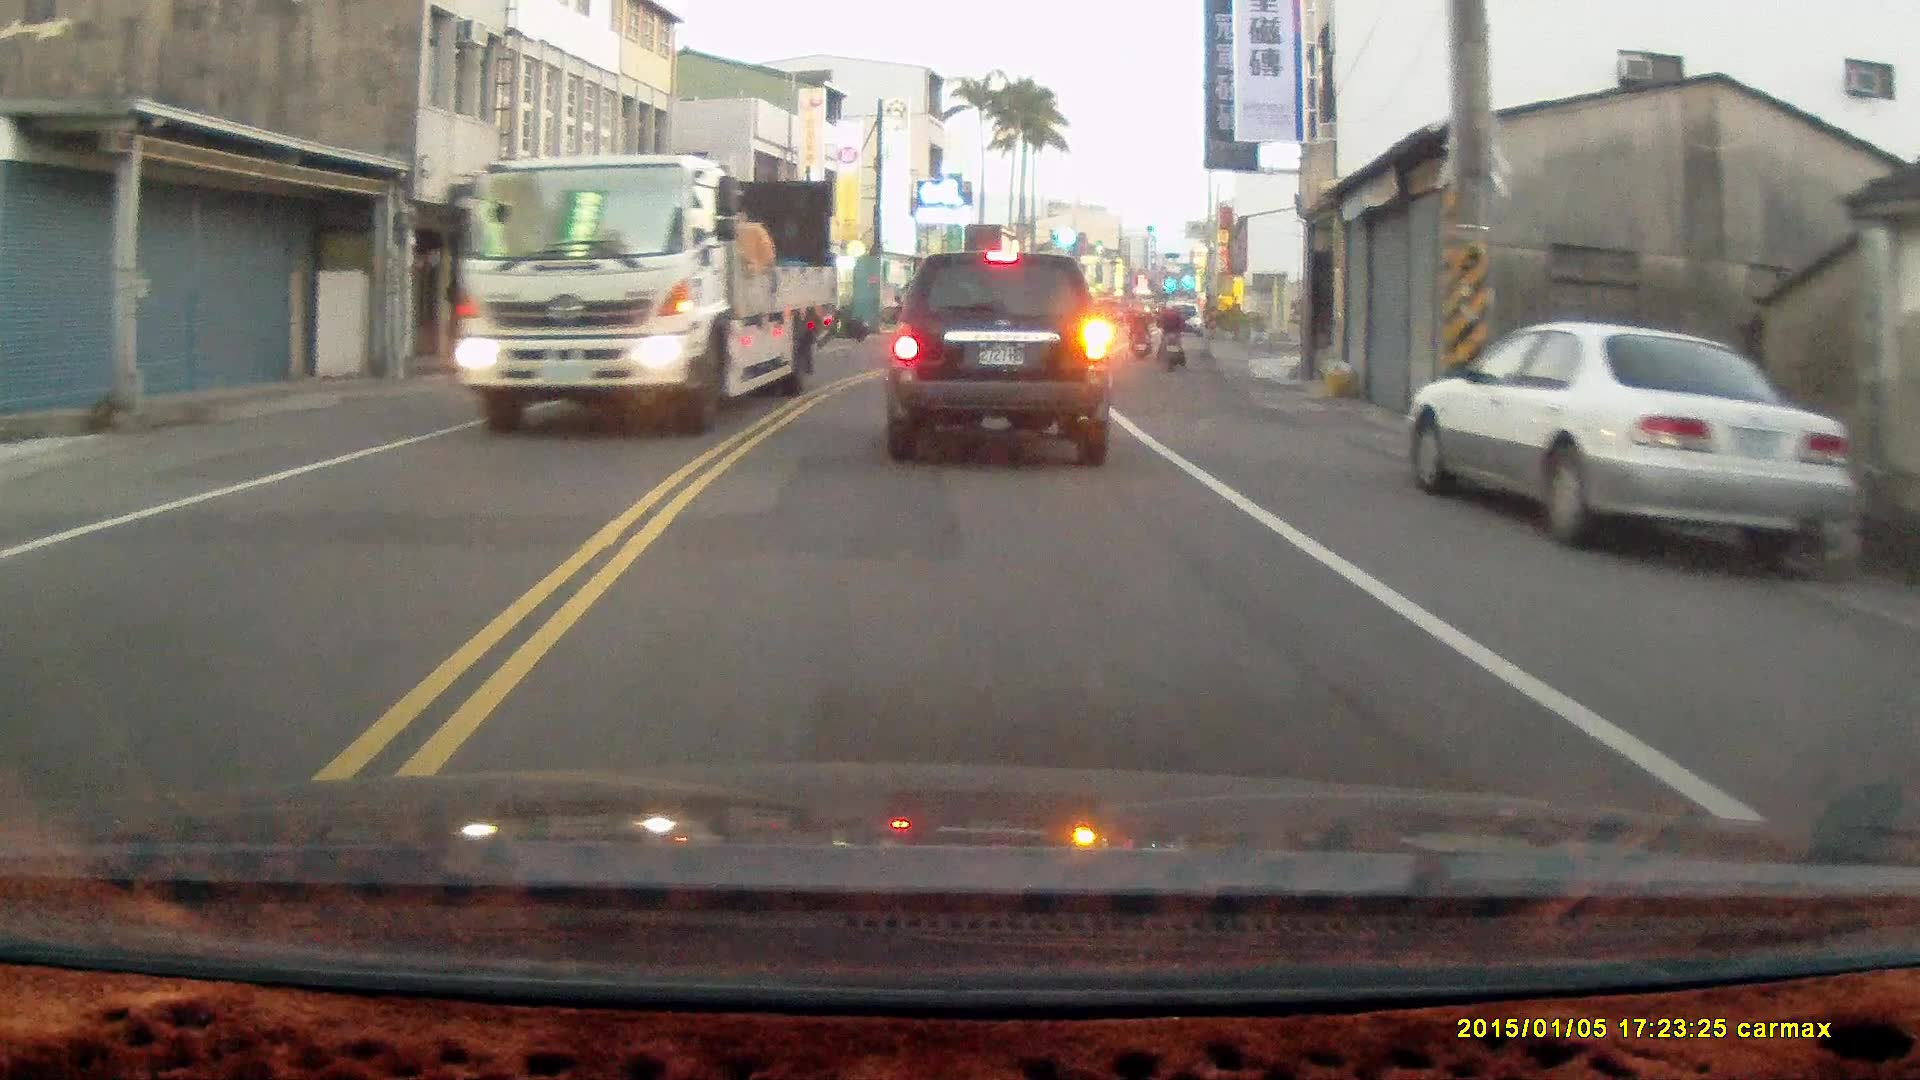rider: (1155, 293, 1186, 372), (1124, 298, 1148, 358)
vehicle: (1406, 319, 1857, 576), (449, 158, 838, 423), (887, 247, 1117, 461)
